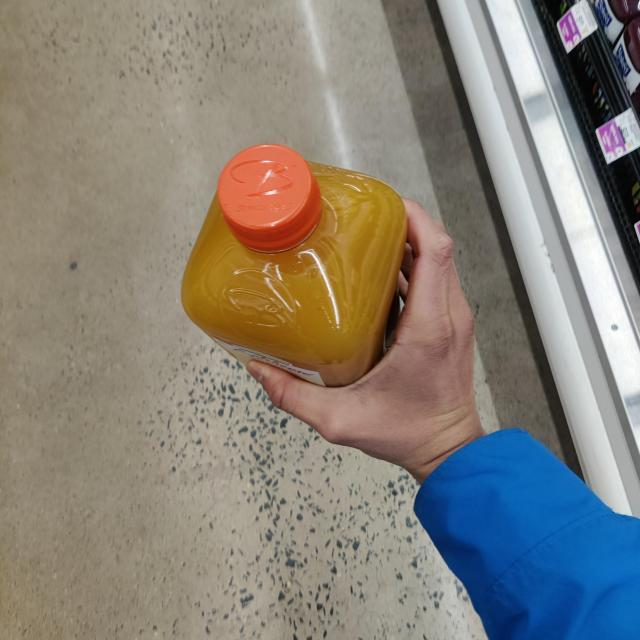Juice: (165, 137, 456, 411)
